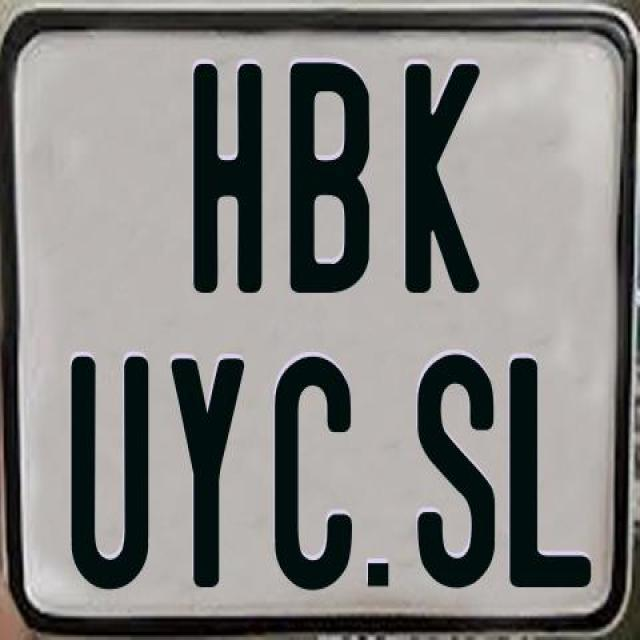B: (290, 61, 374, 294)
C: (270, 353, 350, 592)
H: (192, 59, 262, 298)
K: (402, 64, 484, 293)
L: (508, 358, 595, 589)
S: (413, 354, 491, 594)
U: (66, 357, 146, 596)
Y: (168, 356, 249, 594)
